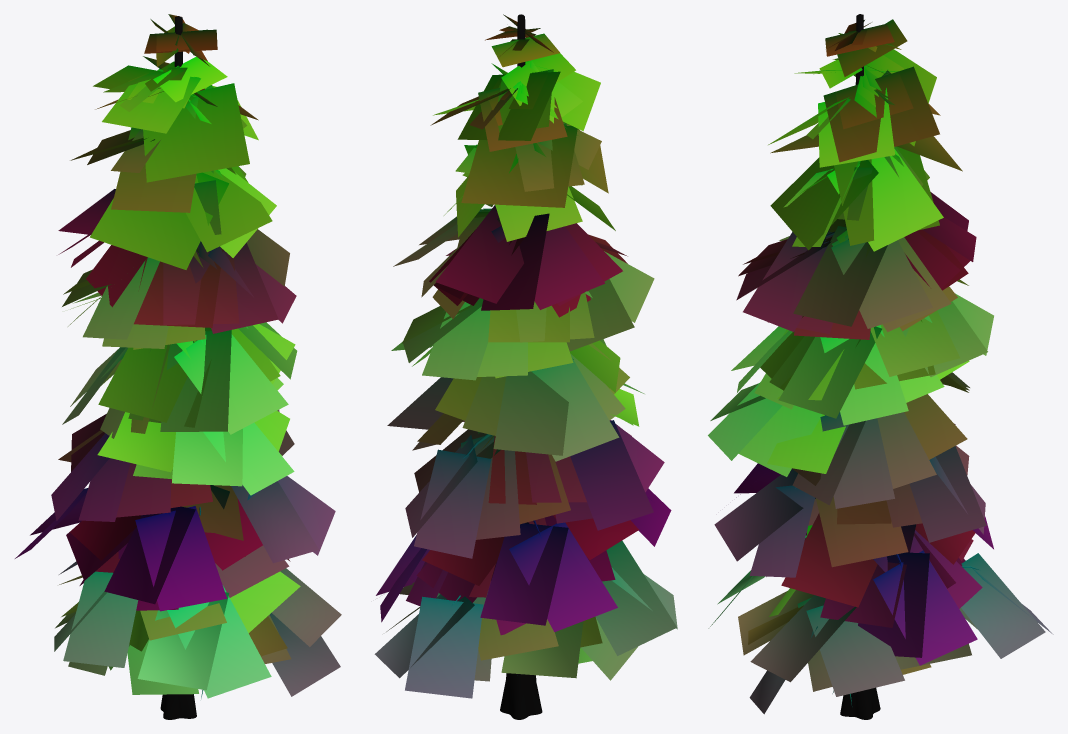
File: M_Pine_4_5.fbx
3 renders of one model, left to right at view 1: azimuth 30°, elevation 25°; view 2: azimuth 150°, elevation 25°; view 3: azimuth 270°, elevation 25°, orthographic.
Visible parts, largest first — view 1: Tree_5; view 2: Tree_5; view 3: Tree_5.
Boxes of the visible parts, x1,y1,x2,y2 form: Tree_5: (15, 14, 341, 719); Tree_5: (374, 14, 677, 719); Tree_5: (708, 14, 1053, 719).
Bounding box in the file's own units: 1079 × 2587 × 1167.
